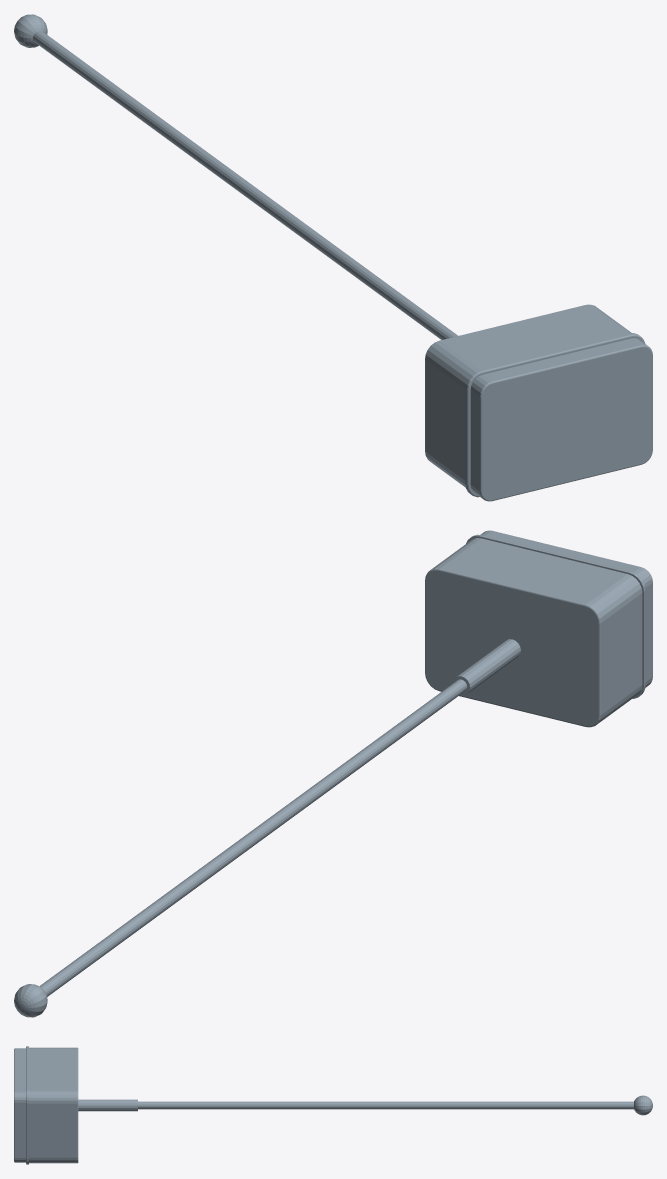
Rendered from TemperatureSensor.glb.
3 renders of one model, top to bottom at view 1: azimuth 30°, elevation 25°; view 2: azimuth 150°, elevation 25°; view 3: azimuth 270°, elevation 25°, orthographic. The views are drawn at different scales.
Visible parts, largest first — view 1: child.001; view 2: child.001; view 3: child.001.
Boxes of the visible parts, left/top/right/bottom form: child.001: left=14, top=14, right=652, bottom=501; child.001: left=14, top=530, right=652, bottom=1017; child.001: left=14, top=1046, right=652, bottom=1164.
Bounding box in the file's own units: 122 × 82 × 644.
